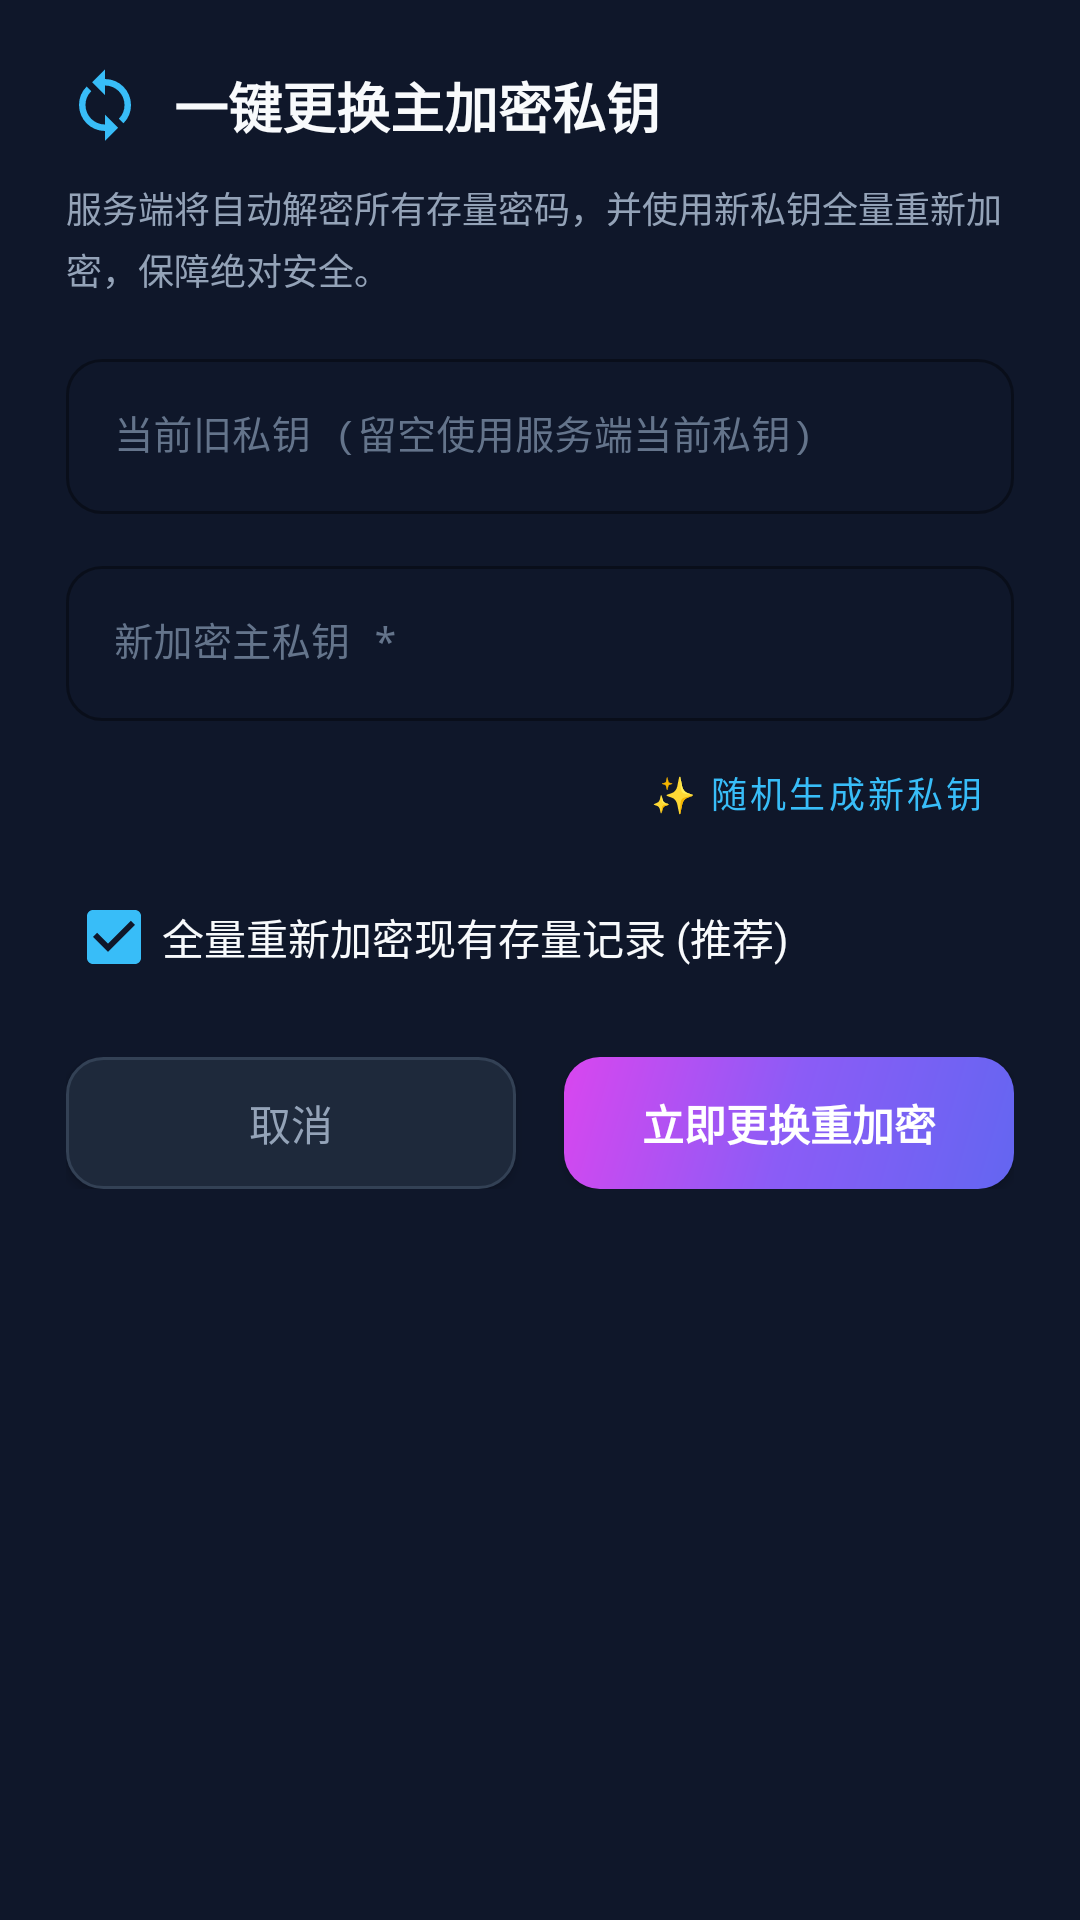

Icons on this 1080 x 1920 Android screen, each with its box as (x1, y1, x2, y2):
Rotate Icon: (79, 69, 131, 141)
